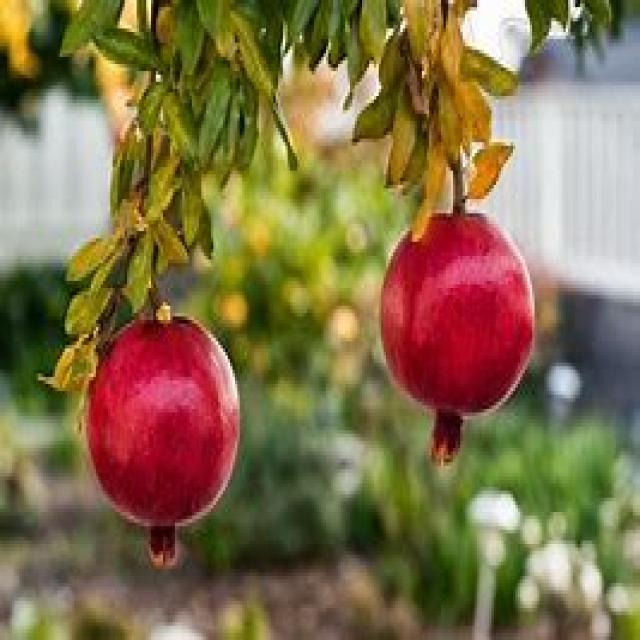Pomegranate: (379, 210, 538, 466), (84, 314, 243, 569)
